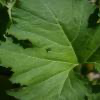Tomato leaf: (0, 2, 99, 63)
